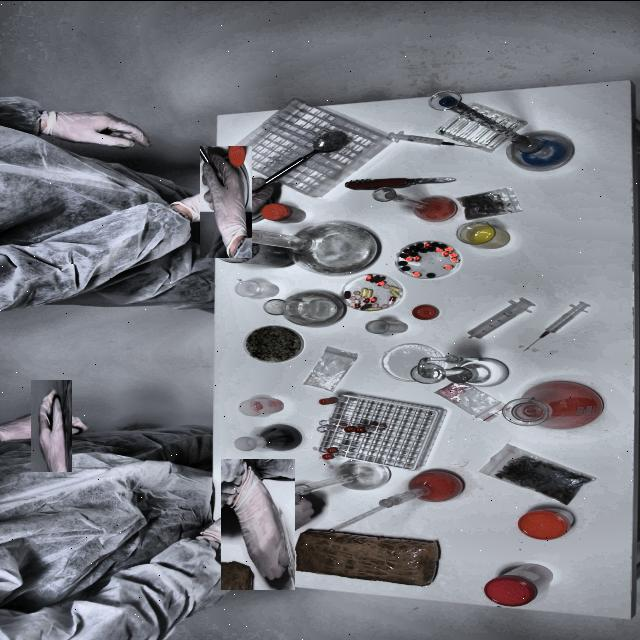gloved: (206, 472, 310, 576), (185, 160, 267, 242), (28, 104, 154, 145), (17, 391, 84, 459)
